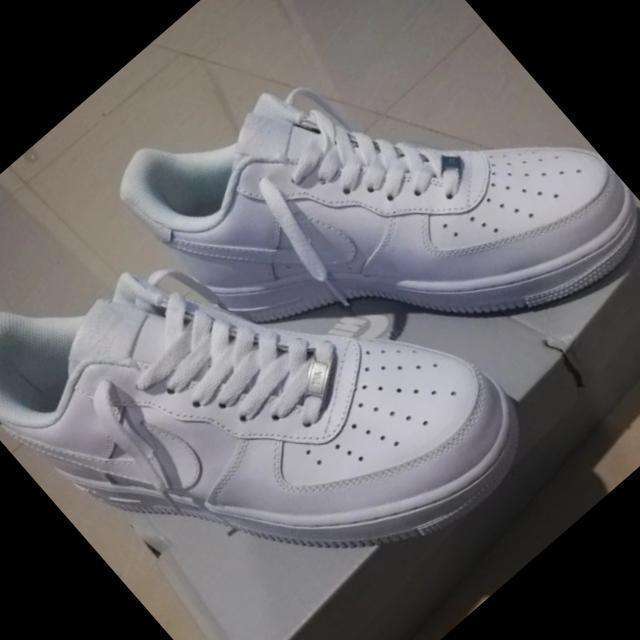nike original air force: (0, 92, 551, 640), (102, 0, 640, 485)
